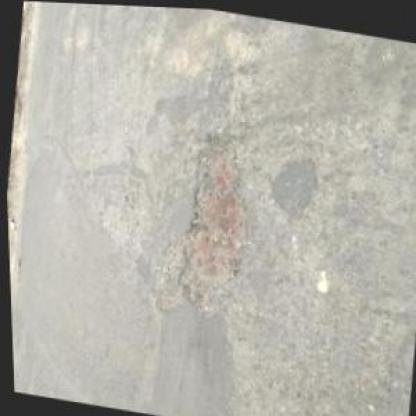pothole: (166, 125, 265, 324)
